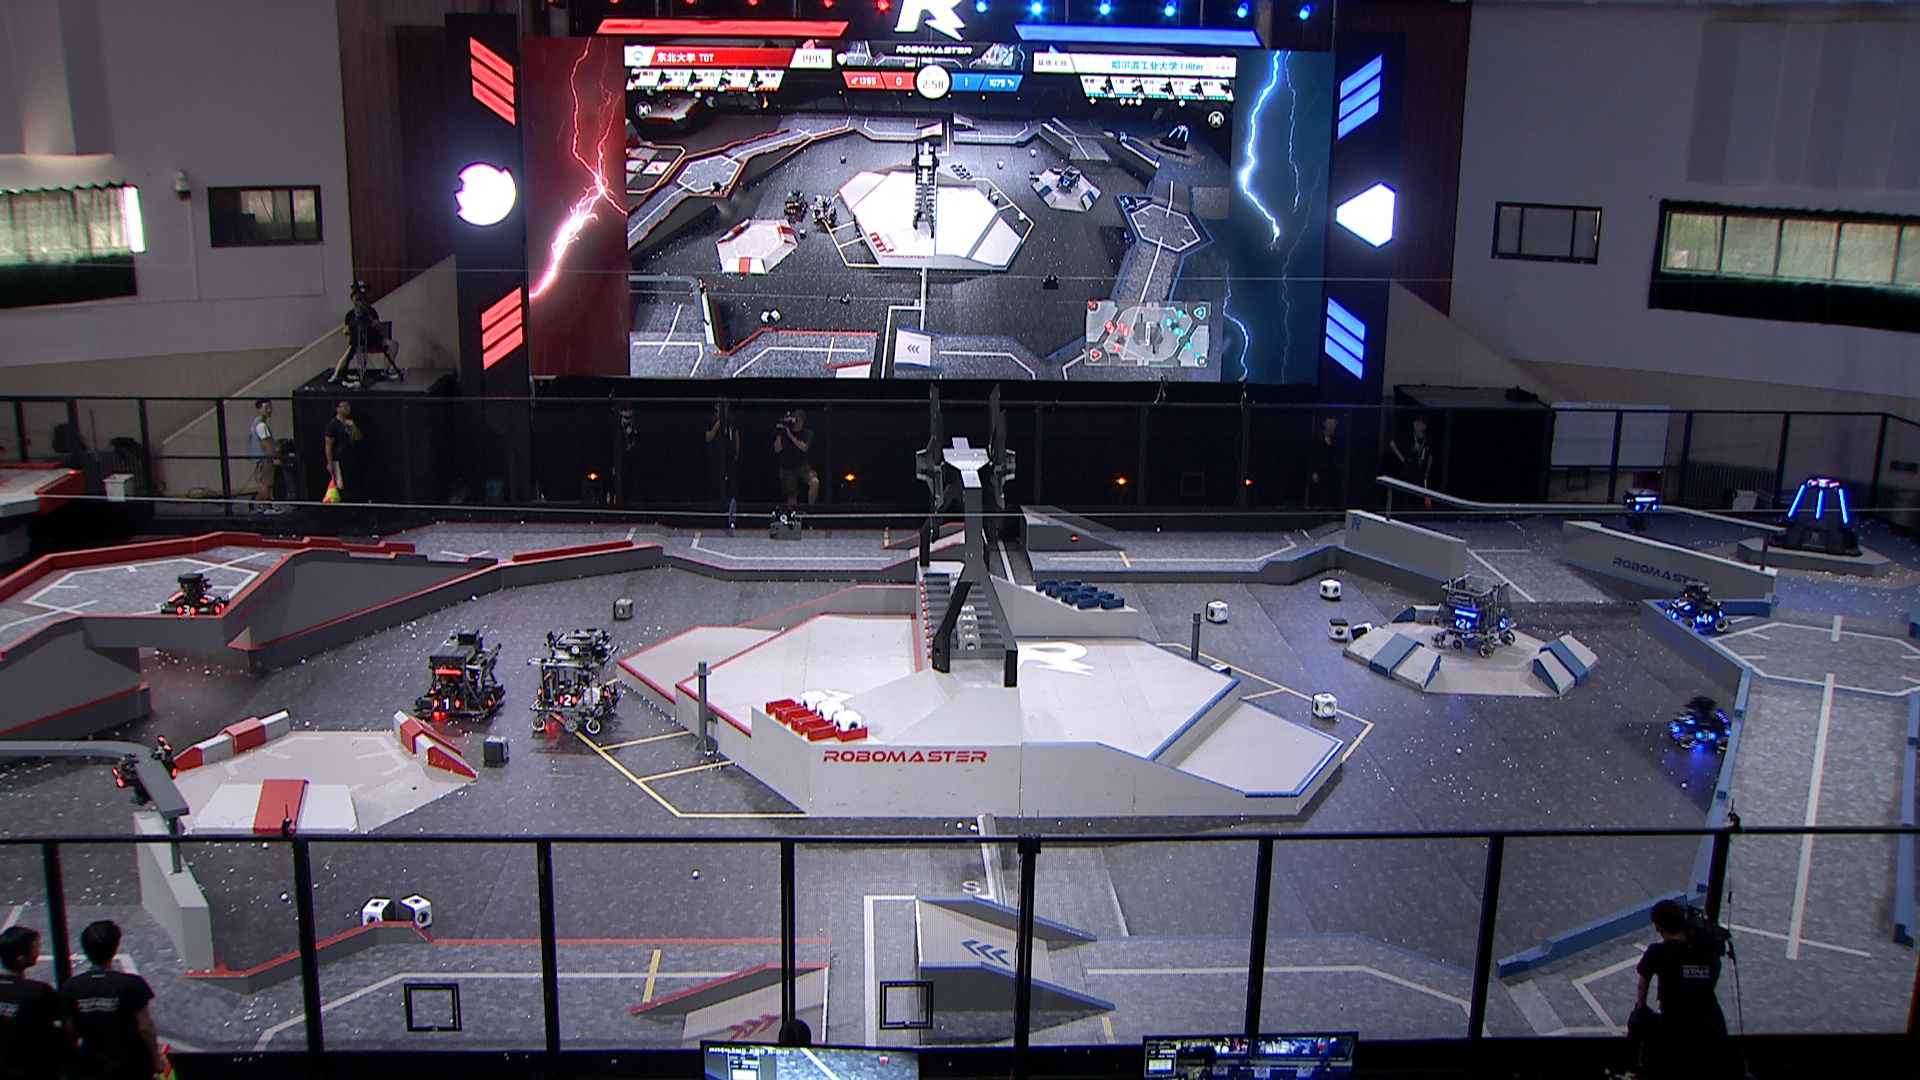armor: (1785, 480, 1807, 520), (1836, 488, 1854, 526), (430, 694, 462, 713), (109, 764, 128, 789), (484, 684, 502, 709), (1813, 487, 1828, 518), (1633, 498, 1660, 514), (1452, 615, 1476, 633), (1695, 727, 1721, 742), (1671, 595, 1695, 612), (196, 588, 219, 605), (555, 692, 579, 708), (173, 603, 196, 618), (1677, 707, 1695, 728), (1693, 611, 1714, 626), (211, 599, 229, 616), (1662, 605, 1679, 622), (1495, 615, 1513, 632), (1665, 717, 1681, 735), (603, 680, 613, 700)
base: (1768, 472, 1859, 559)
car: (524, 632, 626, 737), (413, 636, 505, 731), (1427, 568, 1518, 659), (1662, 684, 1743, 756), (1656, 574, 1735, 638), (156, 567, 235, 624)
ignore: (1159, 120, 1192, 156), (811, 194, 840, 229), (1051, 164, 1084, 194), (778, 189, 806, 219), (1809, 475, 1837, 489)
watcher: (109, 732, 185, 811), (1625, 485, 1662, 541)
